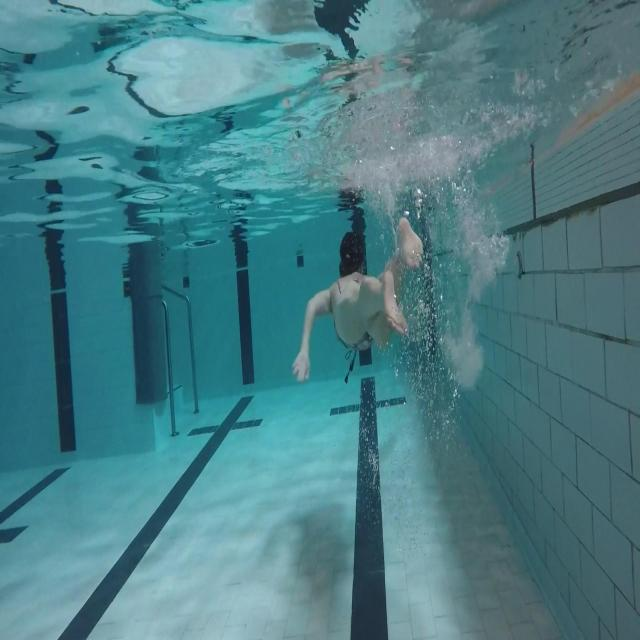human: (292, 214, 424, 383)
